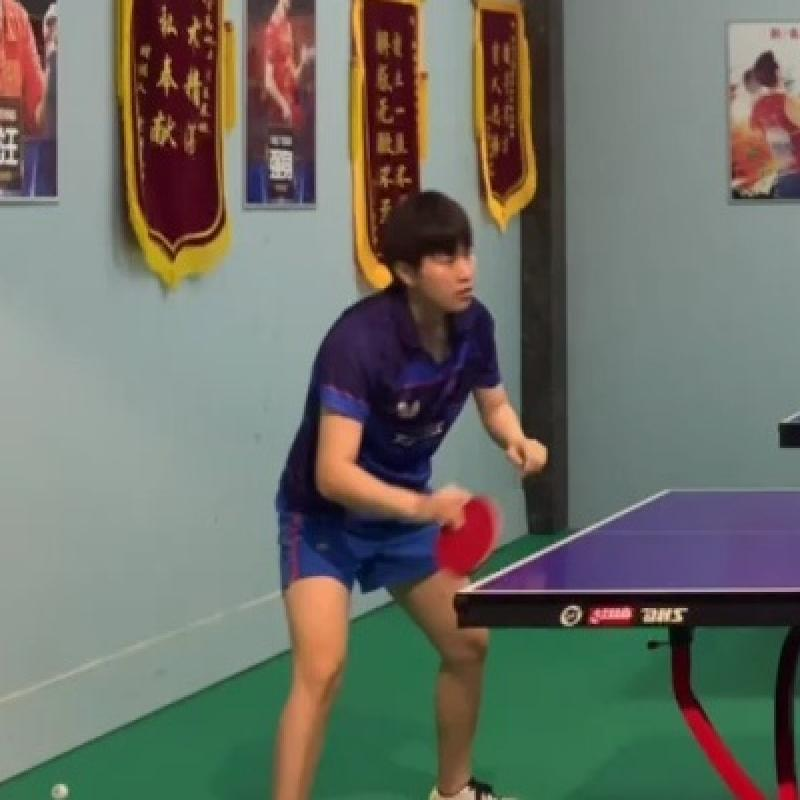bats: (428, 483, 511, 582)
